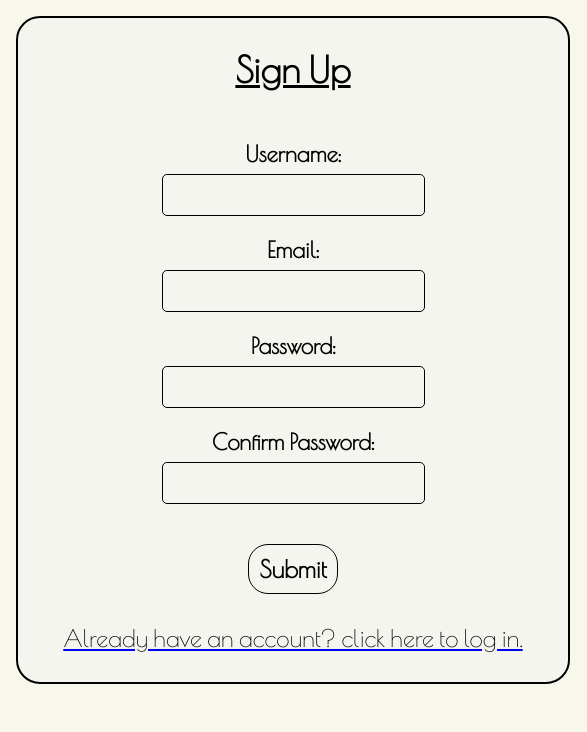
Sign Up › normal errors › shows error when username is blank
This screenshot has width=587, height=732.
Click the button "Submit". click: (293, 569)
box: left=248, top=544, right=338, bottom=594
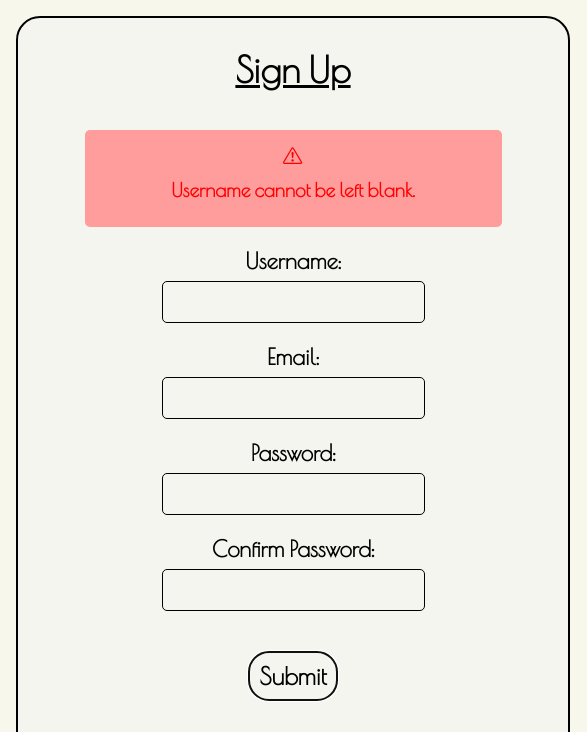
Expected: the text "Username cannot be left blank." is shown, left=171, top=179, right=415, bottom=201
